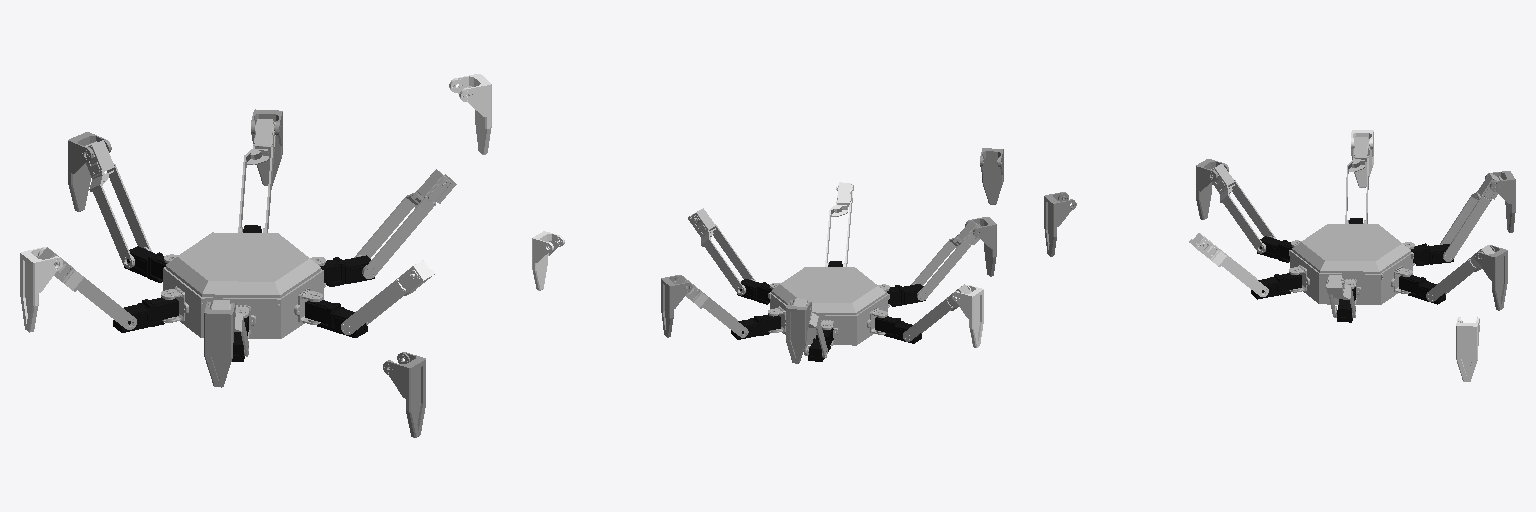
--- What the picture shows (computed from the rendered views, not written in the file) ---
The picture shows the robot from 3 angles, left to right: view 1: azimuth 30°, elevation 25°; view 2: azimuth 150°, elevation 25°; view 3: azimuth 270°, elevation 25°; orthographic projection.
Model hexapod_description with 19 links and 18 joints (18 revolute), rooted at base_link, posed all joints at 0.
Visible links, largest first — view 1: base_link, 5B_link, 3B_link, 1C_link, 6C_link, 2C_link, 6B_link, 5C_link, 3C_link, 2B_link, 4B_link, 2A_link (+4 smaller); view 2: base_link, 5B_link, 1B_link, 3C_link, 6C_link, 2C_link, 5C_link, 4C_link, 4B_link, 1C_link, 6B_link, 2B_link (+4 smaller); view 3: base_link, 1B_link, 3B_link, 5C_link, 6B_link, 4C_link, 6C_link, 1C_link, 4B_link, 3C_link, 2B_link, 6A_link (+5 smaller).
Boxes of the visible links, x1,y1,x2,y2 form: base_link: (161,232,325,338); 5B_link: (354,169,456,278); 3B_link: (85,140,151,268); 1C_link: (204,301,235,387); 6C_link: (383,352,425,437); 2C_link: (20,247,62,332); 6B_link: (341,260,434,334); 5C_link: (449,74,491,154); 3C_link: (68,132,111,211); 2B_link: (36,247,136,329); 4B_link: (238,119,275,232); 2A_link: (113,297,178,332); base_link: (768,267,889,345); 5B_link: (688,208,755,295); 1B_link: (911,220,981,300); 3C_link: (786,300,811,363); 6C_link: (980,148,1003,204); 2C_link: (952,285,983,347); 5C_link: (532,231,564,290); 4C_link: (661,275,692,337); 4B_link: (673,275,748,337); 1C_link: (965,217,996,276); 6B_link: (825,182,853,266); 2B_link: (903,284,971,341); base_link: (1289,224,1414,304); 1B_link: (1211,164,1275,253); 3B_link: (1440,173,1502,261); 5C_link: (1456,317,1479,381); 6B_link: (1189,233,1268,296); 4C_link: (1474,245,1507,310); 6C_link: (1044,192,1076,256); 1C_link: (1196,159,1228,219); 4B_link: (1426,245,1494,301); 3C_link: (1485,171,1515,232); 2B_link: (1345,136,1369,223); 6A_link: (1251,273,1301,299).
Bounding box of the posed robot: 0.9132 × 0.9219 × 0.1869 m (x, y, z).
19 mesh visuals loaded from 19 distinct referenced files (19 binary STL).

The robot description file, URDF, robot "hexapod_description":
<?xml version="1.0" encoding="utf-8"?>

<robot
  name="hexapod_description">
  <link
    name="base_link">
    <inertial>
      <origin
        xyz="-2.16623615156841E-08 -1.86474001004355E-07 0.0398545694412631"
        rpy="0 0 0" />
      <mass
        value="0.406550708950941" />
      <inertia
        ixx="0.00140041843016966"
        ixy="-2.31249740438415E-06"
        ixz="2.39569958983405E-10"
        iyy="0.00139816601300651"
        iyz="-5.86573676030292E-09"
        izz="0.00260764605126391" />
    </inertial>
    <visual>
      <origin
        xyz="0 0 0"
        rpy="0 0 0" />
      <geometry>
        <mesh
          filename="package://hexapod_description/meshes/base_link.STL" />
      </geometry>
      <material
        name="">
        <color
          rgba="0.749019607843137 0.749019607843137 0.749019607843137 1" />
      </material>
    </visual>
    <collision>
      <origin
        xyz="0 0 0"
        rpy="0 0 0" />
      <geometry>
        <mesh
          filename="package://hexapod_description/meshes/base_link.STL" />
      </geometry>
    </collision>
  </link>
  <link
    name="1A_link">
    <inertial>
      <origin
        xyz="-0.00430152674656747 -0.0431962346916644 -0.00734637049675646"
        rpy="0 0 0" />
      <mass
        value="0.0263699506965419" />
      <inertia
        ixx="9.3669983446741E-06"
        ixy="-6.24242315997163E-07"
        ixz="-8.07159860309015E-08"
        iyy="3.3914445172646E-06"
        iyz="-6.99491049885188E-07"
        izz="9.25188012769048E-06" />
    </inertial>
    <visual>
      <origin
        xyz="0 0 0"
        rpy="0 0 0" />
      <geometry>
        <mesh
          filename="package://hexapod_description/meshes/1A_link.STL" />
      </geometry>
      <material
        name="">
        <color
          rgba="0.109803921568627 0.109803921568627 0.109803921568627 1" />
      </material>
    </visual>
    <collision>
      <origin
        xyz="0 0 0"
        rpy="0 0 0" />
      <geometry>
        <mesh
          filename="package://hexapod_description/meshes/1A_link.STL" />
      </geometry>
    </collision>
  </link>
  <joint
    name="1A_joint"
    type="revolute">
    <origin
      xyz="-0.066747 -0.10678 0.03165"
      rpy="0 0 -0.54114" />
    <parent
      link="base_link" />
    <child
      link="1A_link" />
    <axis
      xyz="0 0 1" />
    <limit
      lower="-1.5708"
      upper="1.5708"
      effort="0"
      velocity="0" />
  </joint>
  <link
    name="1B_link">
    <inertial>
      <origin
        xyz="-0.00910769234252495 -0.0740845004495032 0.0694617623005529"
        rpy="0 0 0" />
      <mass
        value="0.0393326464255896" />
      <inertia
        ixx="7.51305858611927E-05"
        ixy="-1.19676969675529E-05"
        ixz="9.79851660022672E-06"
        iyy="3.87628758466112E-05"
        iyz="3.54057735809093E-05"
        izz="4.7497009829959E-05" />
    </inertial>
    <visual>
      <origin
        xyz="0 0 0"
        rpy="0 0 0" />
      <geometry>
        <mesh
          filename="package://hexapod_description/meshes/1B_link.STL" />
      </geometry>
      <material
        name="">
        <color
          rgba="0.749019607843137 0.749019607843137 0.749019607843137 1" />
      </material>
    </visual>
    <collision>
      <origin
        xyz="0 0 0"
        rpy="0 0 0" />
      <geometry>
        <mesh
          filename="package://hexapod_description/meshes/1B_link.STL" />
      </geometry>
    </collision>
  </link>
  <joint
    name="1B_joint"
    type="revolute">
    <origin
      xyz="-0.00760490724250368 -0.0751266443986717 -0.00269900311088156"
      rpy="0 0 0" />
    <parent
      link="1A_link" />
    <child
      link="1B_link" />
    <axis
      xyz="-0.996338495646665 0.0854962109391992 0" />
    <limit
      lower="-2.96706"
      upper="1.74533"
      effort="0"
      velocity="0" />
  </joint>
  <link
    name="1C_link">
    <inertial>
      <origin
        xyz="-0.00348818139156887 -0.0291891341844464 -0.0323193636043977"
        rpy="0 0 0" />
      <mass
        value="0.0544820458081966" />
      <inertia
        ixx="5.94066047749144E-05"
        ixy="6.30799090806654E-07"
        ixz="-2.7237330792723E-07"
        iyy="6.51310909132245E-05"
        iyz="-5.30583624845142E-06"
        izz="1.31203425399881E-05" />
    </inertial>
    <visual>
      <origin
        xyz="0 0 0"
        rpy="0 0 0" />
      <geometry>
        <mesh
          filename="package://hexapod_description/meshes/1C_link.STL" />
      </geometry>
      <material
        name="">
        <color
          rgba="0.647058823529412 0.647058823529412 0.647058823529412 1" />
      </material>
    </visual>
    <collision>
      <origin
        xyz="0 0 0"
        rpy="0 0 0" />
      <geometry>
        <mesh
          filename="package://hexapod_description/meshes/1C_link.STL" />
      </geometry>
    </collision>
  </link>
  <joint
    name="1C_joint"
    type="revolute">
    <origin
      xyz="-0.016997 -0.12029 0.12064"
      rpy="0 0 0" />
    <parent
      link="1B_link" />
    <child
      link="1C_link" />
    <axis
      xyz="-0.99634 0.085496 0" />
    <limit
      lower="-0.872665"
      upper="2.96706"
      effort="0"
      velocity="0" />
  </joint>
  <link
    name="2A_link">
    <inertial>
      <origin
        xyz="-0.0382512200669952 -0.0205242784570161 -0.00734621091012388"
        rpy="0 0 0" />
      <mass
        value="0.0263699508381414" />
      <inertia
        ixx="4.67233543015659E-06"
        ixy="-2.53042568379074E-06"
        ixz="-6.25586570659638E-07"
        iyy="8.0861022511898E-06"
        iyz="-3.23130818507158E-07"
        izz="9.25188533691811E-06" />
    </inertial>
    <visual>
      <origin
        xyz="0 0 0"
        rpy="0 0 0" />
      <geometry>
        <mesh
          filename="package://hexapod_description/meshes/2A_link.STL" />
      </geometry>
      <material
        name="">
        <color
          rgba="0.109803921568627 0.109803921568627 0.109803921568627 1" />
      </material>
    </visual>
    <collision>
      <origin
        xyz="0 0 0"
        rpy="0 0 0" />
      <geometry>
        <mesh
          filename="package://hexapod_description/meshes/2A_link.STL" />
      </geometry>
    </collision>
  </link>
  <joint
    name="2A_joint"
    type="revolute">
    <origin
      xyz="-0.12585 0.0044155 0.03165"
      rpy="0 0 -0.54114" />
    <parent
      link="base_link" />
    <child
      link="2A_link" />
    <axis
      xyz="0 0 1" />
    <limit
      lower="-1.5708"
      upper="1.5708"
      effort="0"
      velocity="0" />
  </joint>
  <link
    name="2B_link">
    <inertial>
      <origin
        xyz="-0.0663996893532595 -0.0336660421435473 0.0696712367223353"
        rpy="0 0 0" />
      <mass
        value="0.0393326465544564" />
      <inertia
        ixx="3.91670979325796E-05"
        ixy="-1.22379003015142E-05"
        ixz="3.48894911265798E-05"
        iyy="7.49295388013545E-05"
        iyz="1.16071675159351E-05"
        izz="4.72938348364298E-05" />
    </inertial>
    <visual>
      <origin
        xyz="0 0 0"
        rpy="0 0 0" />
      <geometry>
        <mesh
          filename="package://hexapod_description/meshes/2B_link.STL" />
      </geometry>
      <material
        name="">
        <color
          rgba="0.749019607843137 0.749019607843137 0.749019607843137 1" />
      </material>
    </visual>
    <collision>
      <origin
        xyz="0 0 0"
        rpy="0 0 0" />
      <geometry>
        <mesh
          filename="package://hexapod_description/meshes/2B_link.STL" />
      </geometry>
    </collision>
  </link>
  <joint
    name="2B_joint"
    type="revolute">
    <origin
      xyz="-0.0665963742689142 -0.0355912800079509 -0.00269872535340721"
      rpy="0 0 0" />
    <parent
      link="2A_link" />
    <child
      link="2B_link" />
    <axis
      xyz="-0.484736668052907 0.874660141213748 0" />
    <limit
      lower="-2.96706"
      upper="1.74533"
      effort="0"
      velocity="0" />
  </joint>
  <link
    name="2C_link">
    <inertial>
      <origin
        xyz="-0.0261627417663124 -0.0133791438816956 -0.0323368314498991"
        rpy="0 0 0" />
      <mass
        value="0.0544820458081966" />
      <inertia
        ixx="6.39343322358675E-05"
        ixy="2.41170545082999E-06"
        ixz="-4.55602739279432E-06"
        iyy="6.06033249654464E-05"
        iyz="-2.73325974224795E-06"
        izz="1.3120381026813E-05" />
    </inertial>
    <visual>
      <origin
        xyz="0 0 0"
        rpy="0 0 0" />
      <geometry>
        <mesh
          filename="package://hexapod_description/meshes/2C_link.STL" />
      </geometry>
      <material
        name="">
        <color
          rgba="0.956862745098039 0.956862745098039 0.956862745098039 1" />
      </material>
    </visual>
    <collision>
      <origin
        xyz="0 0 0"
        rpy="0 0 0" />
      <geometry>
        <mesh
          filename="package://hexapod_description/meshes/2C_link.STL" />
      </geometry>
    </collision>
  </link>
  <joint
    name="2C_joint"
    type="revolute">
    <origin
      xyz="-0.10904 -0.052825 0.121"
      rpy="0 0 0" />
    <parent
      link="2B_link" />
    <child
      link="2C_link" />
    <axis
      xyz="-0.48474 0.87466 0" />
    <limit
      lower="-0.872665"
      upper="2.96706"
      effort="0"
      velocity="0" />
  </joint>
  <link
    name="3A_link">
    <inertial>
      <origin
        xyz="-0.030742915198555 0.0306468466822681 -0.00734605915915476"
        rpy="0 0 0" />
      <mass
        value="0.0263699508271745" />
      <inertia
        ixx="6.39311611609282E-06"
        ixy="3.05226589069983E-06"
        ixz="-4.90758853224E-07"
        iyy="6.36531672268341E-06"
        iyz="5.04875004971084E-07"
        izz="9.25189018320308E-06" />
    </inertial>
    <visual>
      <origin
        xyz="0 0 0"
        rpy="0 0 0" />
      <geometry>
        <mesh
          filename="package://hexapod_description/meshes/3A_link.STL" />
      </geometry>
      <material
        name="">
        <color
          rgba="0.109803921568627 0.109803921568627 0.109803921568627 1" />
      </material>
    </visual>
    <collision>
      <origin
        xyz="0 0 0"
        rpy="0 0 0" />
      <geometry>
        <mesh
          filename="package://hexapod_description/meshes/3A_link.STL" />
      </geometry>
    </collision>
  </link>
  <joint
    name="3A_joint"
    type="revolute">
    <origin
      xyz="-0.059099 0.11119 0.03165"
      rpy="0 0 -0.54114" />
    <parent
      link="base_link" />
    <child
      link="3A_link" />
    <axis
      xyz="0 0 1" />
    <limit
      lower="-1.5708"
      upper="1.5708"
      effort="0"
      velocity="0" />
  </joint>
  <link
    name="3B_link">
    <inertial>
      <origin
        xyz="-0.0401013614285166 0.0427259227580773 0.0834447922702348"
        rpy="0 0 0" />
      <mass
        value="0.0393326465562273" />
      <inertia
        ixx="7.12408666614573E-05"
        ixy="1.25999981345467E-05"
        ixz="1.93683904969778E-05"
        iyy="5.77843917170043E-05"
        iyz="-3.04889273639782E-05"
        izz="3.23652131923364E-05" />
    </inertial>
    <visual>
      <origin
        xyz="0 0 0"
        rpy="0 0 0" />
      <geometry>
        <mesh
          filename="package://hexapod_description/meshes/3B_link.STL" />
      </geometry>
      <material
        name="">
        <color
          rgba="0.749019607843137 0.749019607843137 0.749019607843137 1" />
      </material>
    </visual>
    <collision>
      <origin
        xyz="0 0 0"
        rpy="0 0 0" />
      <geometry>
        <mesh
          filename="package://hexapod_description/meshes/3B_link.STL" />
      </geometry>
    </collision>
  </link>
  <joint
    name="3B_joint"
    type="revolute">
    <origin
      xyz="-0.0533873782981206 0.0533996389354673 -0.00269846185166944"
      rpy="0 0 0" />
    <parent
      link="3A_link" />
    <child
      link="3B_link" />
    <axis
      xyz="0.696443909967172 0.717611231983724 0" />
    <limit
      lower="-2.96706"
      upper="1.74533"
      effort="0"
      velocity="0" />
  </joint>
  <link
    name="3C_link">
    <inertial>
      <origin
        xyz="-0.0203961299525217 0.0211541738433748 -0.0323367817107068"
        rpy="0 0 0" />
      <mass
        value="0.0544820458081966" />
      <inertia
        ixx="6.22233564751284E-05"
        ixy="-2.93053891242667E-06"
        ixz="-3.93805628560664E-06"
        iyy="6.23142618869599E-05"
        iyz="3.56676566024977E-06"
        izz="1.31204198660387E-05" />
    </inertial>
    <visual>
      <origin
        xyz="0 0 0"
        rpy="0 0 0" />
      <geometry>
        <mesh
          filename="package://hexapod_description/meshes/3C_link.STL" />
      </geometry>
      <material
        name="">
        <color
          rgba="0.647058823529412 0.647058823529412 0.647058823529412 1" />
      </material>
    </visual>
    <collision>
      <origin
        xyz="0 0 0"
        rpy="0 0 0" />
      <geometry>
        <mesh
          filename="package://hexapod_description/meshes/3C_link.STL" />
      </geometry>
    </collision>
  </link>
  <joint
    name="3C_joint"
    type="revolute">
    <origin
      xyz="-0.062549 0.069952 0.14324"
      rpy="0 0 0" />
    <parent
      link="3B_link" />
    <child
      link="3C_link" />
    <axis
      xyz="0.69644 0.71761 0" />
    <limit
      lower="-0.872665"
      upper="2.96706"
      effort="0"
      velocity="0" />
  </joint>
  <link
    name="4A_link">
    <inertial>
      <origin
        xyz="0.00427097783813601 0.0431993081325594 -0.00734610414753223"
        rpy="0 0 0" />
      <mass
        value="0.0263699506960721" />
      <inertia
        ixx="9.36787759122105E-06"
        ixy="-6.20020021006081E-07"
        ixz="8.02174236482846E-08"
        iyy="3.39055675422848E-06"
        iyz="6.9951192336265E-07"
        izz="9.25188864403143E-06" />
    </inertial>
    <visual>
      <origin
        xyz="0 0 0"
        rpy="0 0 0" />
      <geometry>
        <mesh
          filename="package://hexapod_description/meshes/4A_link.STL" />
      </geometry>
      <material
        name="">
        <color
          rgba="0.109803921568627 0.109803921568627 0.109803921568627 1" />
      </material>
    </visual>
    <collision>
      <origin
        xyz="0 0 0"
        rpy="0 0 0" />
      <geometry>
        <mesh
          filename="package://hexapod_description/meshes/4A_link.STL" />
      </geometry>
    </collision>
  </link>
  <joint
    name="4A_joint"
    type="revolute">
    <origin
      xyz="0.066747 0.10678 0.03165"
      rpy="0 0 -0.54114" />
    <parent
      link="base_link" />
    <child
      link="4A_link" />
    <axis
      xyz="0 0 1" />
    <limit
      lower="-1.5708"
      upper="1.5708"
      effort="0"
      velocity="0" />
  </joint>
  <link
    name="4B_link">
    <inertial>
      <origin
        xyz="0.00905570425457858 0.0740918131465606 0.0694607562313487"
        rpy="0 0 0" />
      <mass
        value="0.0393326464251386" />
      <inertia
        ixx="7.5147336897519E-05"
        ixy="-1.19423683365929E-05"
        ixz="-9.7735479836175E-06"
        iyy="3.87450912569049E-05"
        iyz="-3.54124918136698E-05"
        izz="4.74980433831973E-05" />
    </inertial>
    <visual>
      <origin
        xyz="0 0 0"
        rpy="0 0 0" />
      <geometry>
        <mesh
          filename="package://hexapod_description/meshes/4B_link.STL" />
      </geometry>
      <material
        name="">
        <color
          rgba="0.749019607843137 0.749019607843137 0.749019607843137 1" />
      </material>
    </visual>
    <collision>
      <origin
        xyz="0 0 0"
        rpy="0 0 0" />
      <geometry>
        <mesh
          filename="package://hexapod_description/meshes/4B_link.STL" />
      </geometry>
    </collision>
  </link>
  <joint
    name="4B_joint"
    type="revolute">
    <origin
      xyz="0.00755197903724675 0.0751319969361967 -0.00269854049076024"
      rpy="0 0 0" />
    <parent
      link="4A_link" />
    <child
      link="4B_link" />
    <axis
      xyz="0.996395716648548 -0.0848267401051073 0" />
    <limit
      lower="-2.96706"
      upper="1.74533"
      effort="0"
      velocity="0" />
  </joint>
  <link
    name="4C_link">
    <inertial>
      <origin
        xyz="0.00346641753308163 0.0291801104019292 -0.0323367624490156"
        rpy="0 0 0" />
      <mass
        value="0.0544820458081966" />
      <inertia
        ixx="5.94057196022278E-05"
        ixy="6.26781488129072E-07"
        ixz="2.68402078580636E-07"
        iyy="6.51319080128128E-05"
        iyz="5.30637078836903E-06"
        izz="1.31204106130861E-05" />
    </inertial>
    <visual>
      <origin
        xyz="0 0 0"
        rpy="0 0 0" />
      <geometry>
        <mesh
          filename="package://hexapod_description/meshes/4C_link.STL" />
      </geometry>
      <material
        name="">
        <color
          rgba="0.647058823529412 0.647058823529412 0.647058823529412 1" />
      </material>
    </visual>
    <collision>
      <origin
        xyz="0 0 0"
        rpy="0 0 0" />
      <geometry>
        <mesh
          filename="package://hexapod_description/meshes/4C_link.STL" />
      </geometry>
    </collision>
  </link>
  <joint
    name="4C_joint"
    type="revolute">
    <origin
      xyz="0.016913 0.12032 0.12066"
      rpy="0 0 0" />
    <parent
      link="4B_link" />
    <child
      link="4C_link" />
    <axis
      xyz="0.9964 -0.084827 0" />
    <limit
      lower="-0.872665"
      upper="2.96706"
      effort="0"
      velocity="0" />
  </joint>
  <link
    name="5A_link">
    <inertial>
      <origin
        xyz="0.0395386883055408 0.0179195676797297 -0.00734627565671797"
        rpy="0 0 0" />
      <mass
        value="0.0263699506893305" />
      <inertia
        ixx="4.35009306532833E-06"
        ixy="-2.28016293187912E-06"
        ixz="6.45792593136121E-07"
        iyy="8.40834687382228E-06"
        iyz="2.80600596630774E-07"
        izz="9.25188305536937E-06" />
    </inertial>
    <visual>
      <origin
        xyz="0 0 0"
        rpy="0 0 0" />
      <geometry>
        <mesh
          filename="package://hexapod_description/meshes/5A_link.STL" />
      </geometry>
      <material
        name="">
        <color
          rgba="0.109803921568627 0.109803921568627 0.109803921568627 1" />
      </material>
    </visual>
    <collision>
      <origin
        xyz="0 0 0"
        rpy="0 0 0" />
      <geometry>
        <mesh
          filename="package://hexapod_description/meshes/5A_link.STL" />
      </geometry>
    </collision>
  </link>
  <joint
    name="5A_joint"
    type="revolute">
    <origin
      xyz="0.12585 -0.0044158 0.03165"
      rpy="0 0 -0.54114" />
    <parent
      link="base_link" />
    <child
      link="5A_link" />
    <axis
      xyz="0 0 1" />
    <limit
      lower="-1.5708"
      upper="1.5708"
      effort="0"
      velocity="0" />
  </joint>
  <link
    name="5B_link">
    <inertial>
      <origin
        xyz="0.0686081854971522 0.0292023174057824 0.0695452517559239"
        rpy="0 0 0" />
      <mass
        value="0.0393326465545736" />
      <inertia
        ixx="3.75854257889242E-05"
        ixy="-9.78315361762443E-06"
        ixz="-3.55654103580446E-05"
        iyy="7.63888513765693E-05"
        iyz="-9.25497349245353E-06"
        izz="4.74161944047752E-05" />
    </inertial>
    <visual>
      <origin
        xyz="0 0 0"
        rpy="0 0 0" />
      <geometry>
        <mesh
          filename="package://hexapod_description/meshes/5B_link.STL" />
      </geometry>
      <material
        name="">
        <color
          rgba="0.749019607843137 0.749019607843137 0.749019607843137 1" />
      </material>
    </visual>
    <collision>
      <origin
        xyz="0 0 0"
        rpy="0 0 0" />
      <geometry>
        <mesh
          filename="package://hexapod_description/meshes/5B_link.STL" />
      </geometry>
    </collision>
  </link>
  <joint
    name="5B_joint"
    type="revolute">
    <origin
      xyz="0.0688275229088763 0.0310583245155329 -0.00269883901400592"
      rpy="0 0 0" />
    <parent
      link="5A_link" />
    <child
      link="5B_link" />
    <axis
      xyz="0.425192570892761 -0.905102909972711 0" />
    <limit
      lower="-2.96706"
      upper="1.74533"
      effort="0"
      velocity="0" />
  </joint>
  <link
    name="5C_link">
    <inertial>
      <origin
        xyz="0.0269983144590966 0.0116007923560765 -0.0323368794732664"
        rpy="0 0 0" />
      <mass
        value="0.0544820458081964" />
      <inertia
        ixx="6.42411606425092E-05"
        ixy="2.16799863223921E-06"
        ixz="4.72829713837291E-06"
        iyy="6.02965082267592E-05"
        iyz="2.42294530119319E-06"
        izz="1.31203693588581E-05" />
    </inertial>
    <visual>
      <origin
        xyz="0 0 0"
        rpy="0 0 0" />
      <geometry>
        <mesh
          filename="package://hexapod_description/meshes/5C_link.STL" />
      </geometry>
      <material
        name="">
        <color
          rgba="0.956862745098039 0.956862745098039 0.956862745098039 1" />
      </material>
    </visual>
    <collision>
      <origin
        xyz="0 0 0"
        rpy="0 0 0" />
      <geometry>
        <mesh
          filename="package://hexapod_description/meshes/5C_link.STL" />
      </geometry>
    </collision>
  </link>
  <joint
    name="5C_joint"
    type="revolute">
    <origin
      xyz="0.11251 0.045505 0.1208"
      rpy="0 0 0" />
    <parent
      link="5B_link" />
    <child
      link="5C_link" />
    <axis
      xyz="0.42519 -0.9051 0" />
    <limit
      lower="-0.872665"
      upper="2.96706"
      effort="0"
      velocity="0" />
  </joint>
  <link
    name="6A_link">
    <inertial>
      <origin
        xyz="0.0352549450054974 -0.0253279720313925 -0.00734640899829908"
        rpy="0 0 0" />
      <mass
        value="0.0263699508281301" />
      <inertia
        ixx="5.42670551111679E-06"
        ixy="2.89986168924278E-06"
        ixz="5.65368445064342E-07"
        iyy="7.33173871646213E-06"
        iyz="-4.19724712150549E-07"
        izz="9.25187879446535E-06" />
    </inertial>
    <visual>
      <origin
        xyz="0 0 0"
        rpy="0 0 0" />
      <geometry>
        <mesh
          filename="package://hexapod_description/meshes/6A_link.STL" />
      </geometry>
      <material
        name="">
        <color
          rgba="0.109803921568627 0.109803921568627 0.109803921568627 1" />
      </material>
    </visual>
    <collision>
      <origin
        xyz="0 0 0"
        rpy="0 0 0" />
      <geometry>
        <mesh
          filename="package://hexapod_description/meshes/6A_link.STL" />
      </geometry>
    </collision>
  </link>
  <joint
    name="6A_joint"
    type="revolute">
    <origin
      xyz="0.0590987552322091 -0.111193443404212 0.0316495166771902"
      rpy="0 0 -0.541135476375613" />
    <parent
      link="base_link" />
    <child
      link="6A_link" />
    <axis
      xyz="0 0 0.999999999991391" />
    <limit
      lower="-1.5708"
      upper="1.5708"
      effort="0"
      velocity="0" />
  </joint>
  <link
    name="6B_link">
    <inertial>
      <origin
        xyz="0.0597672682710506 -0.0450551069368254 0.0692409362949002"
        rpy="0 0 0" />
      <mass
        value="0.0393326465581178" />
      <inertia
        ixx="5.81001316725209E-05"
        ixy="2.18382267321307E-05"
        ixz="-2.57482303993302E-05"
        iyy="5.55798698944885E-05"
        iyz="2.61528890125776E-05"
        izz="4.77104700039354E-05" />
    </inertial>
    <visual>
      <origin
        xyz="0 0 0"
        rpy="0 0 0" />
      <geometry>
        <mesh
          filename="package://hexapod_description/meshes/6B_link.STL" />
      </geometry>
      <material
        name="">
        <color
          rgba="0.956862745098039 0.956862745098039 0.956862745098039 1" />
      </material>
    </visual>
    <collision>
      <origin
        xyz="0 0 0"
        rpy="0 0 0" />
      <geometry>
        <mesh
          filename="package://hexapod_description/meshes/6B_link.STL" />
      </geometry>
    </collision>
  </link>
  <joint
    name="6B_joint"
    type="revolute">
    <origin
      xyz="0.0612532738303673 -0.0441574849800916 -0.0026990706223573"
      rpy="0 0 0" />
    <parent
      link="6A_link" />
    <child
      link="6B_link" />
    <axis
      xyz="-0.572319986773635 -0.820030385252709 0" />
    <limit
      lower="-2.96706"
      upper="1.74533"
      effort="0"
      velocity="0" />
  </joint>
  <link
    name="6C_link">
    <inertial>
      <origin
        xyz="0.023523 -0.017612 -0.032337"
        rpy="0 0 0" />
      <mass
        value="0.054482" />
      <inertia
        ixx="6.3153E-05"
        ixy="-2.7944E-06"
        ixz="4.4585E-06"
        iyy="6.1385E-05"
        iyz="-2.8892E-06"
        izz="1.312E-05" />
    </inertial>
    <visual>
      <origin
        xyz="0 0 0"
        rpy="0 0 0" />
      <geometry>
        <mesh
          filename="package://hexapod_description/meshes/6C_link.STL" />
      </geometry>
      <material
        name="">
        <color
          rgba="0.64706 0.64706 0.64706 1" />
      </material>
    </visual>
    <collision>
      <origin
        xyz="0 0 0"
        rpy="0 0 0" />
      <geometry>
        <mesh
          filename="package://hexapod_description/meshes/6C_link.STL" />
      </geometry>
    </collision>
  </link>
  <joint
    name="6C_joint"
    type="revolute">
    <origin
      xyz="0.095967 -0.075088 0.1203"
      rpy="0 0 0" />
    <parent
      link="6B_link" />
    <child
      link="6C_link" />
    <axis
      xyz="-0.57232 -0.82003 0" />
    <limit
      lower="-0.872665"
      upper="2.96706"
      effort="0"
      velocity="0" />
  </joint>
</robot>
